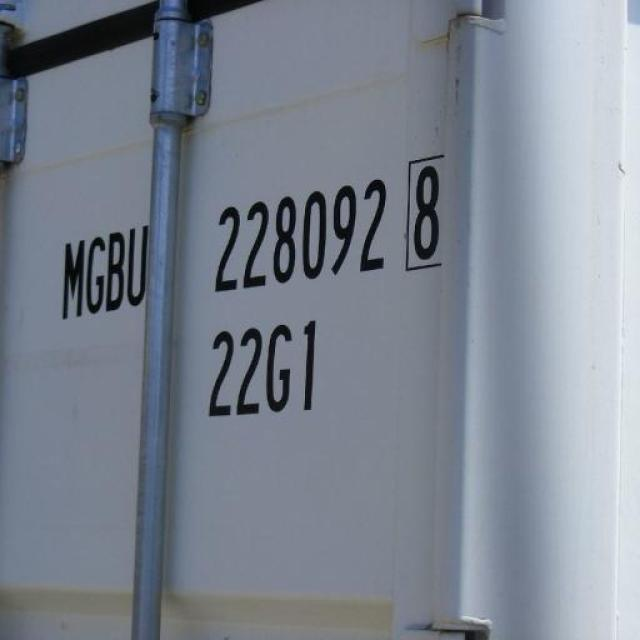ISO: (196, 323, 342, 420)
container_number: (48, 153, 466, 320)
